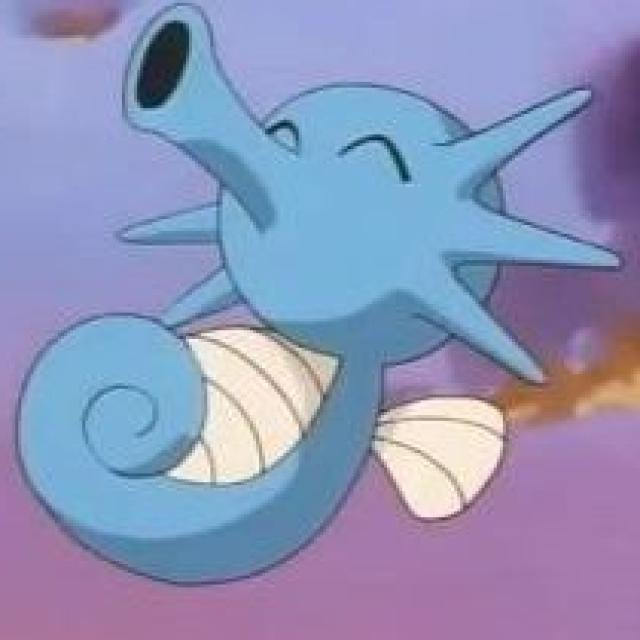Horsea: (102, 16, 510, 589)
